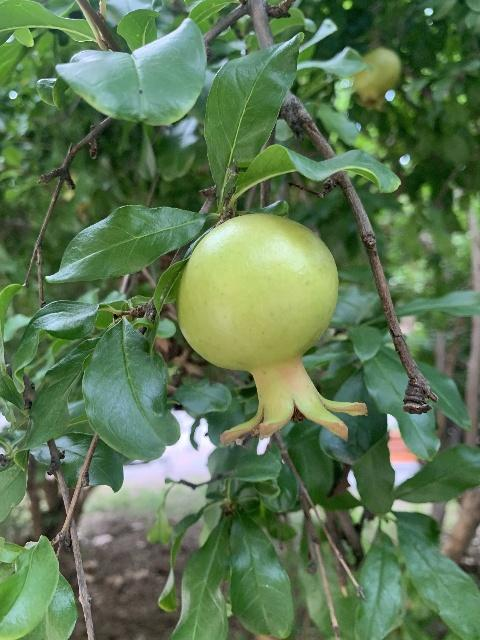mid-growth: (176, 212, 366, 445), (352, 47, 400, 110)
